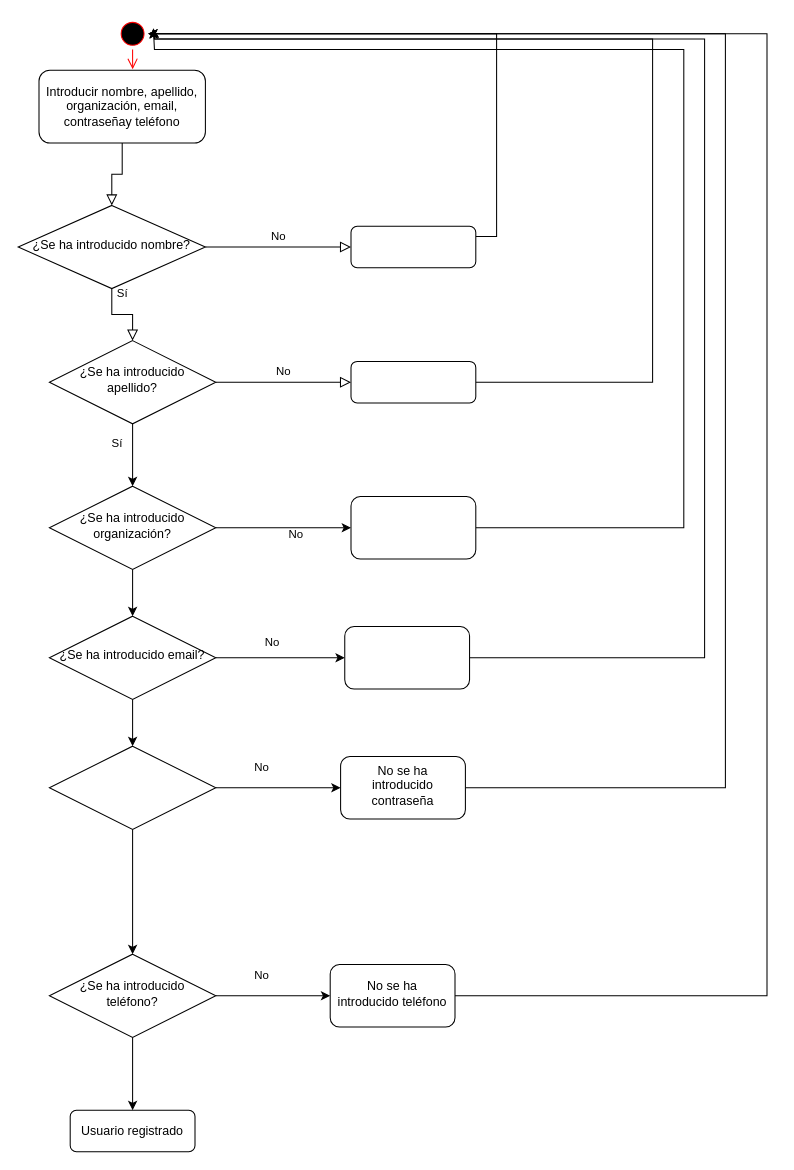
The diagram is 794 pixels wide and 1170 high, and some of its shapes have lost their labels. Each missing label, with the centre of its shape:
No se ha introducido apellido: the point at 413,381
No se ha introducido email: the point at 407,657
No se ha introducido nombre: the point at 413,246
No se ha introducido organización: the point at 413,527
¿Se ha introducido contraseña?: the point at 132,787
